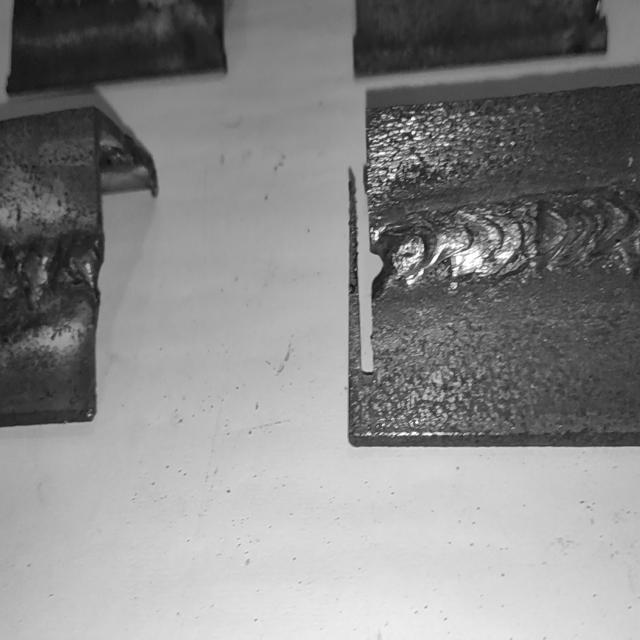Defect: (0, 233, 91, 313)
Welding Line: (382, 192, 640, 290)
Workpiece: (357, 104, 640, 444), (0, 109, 96, 422)
